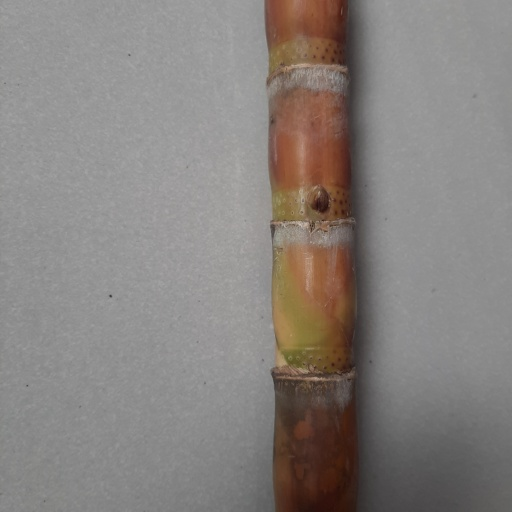Bud: (308, 185, 330, 212)
